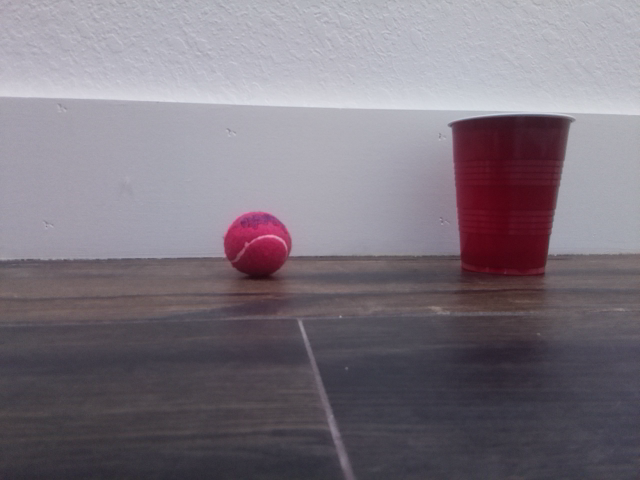red-ball: (222, 210, 293, 277)
